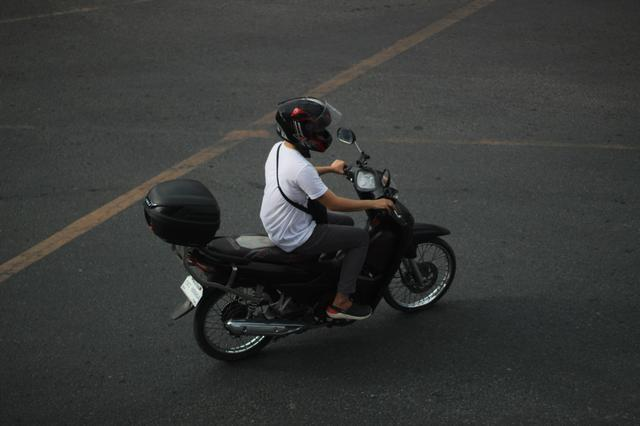helmet: (273, 95, 334, 155)
motorcycle: (171, 97, 461, 361)
